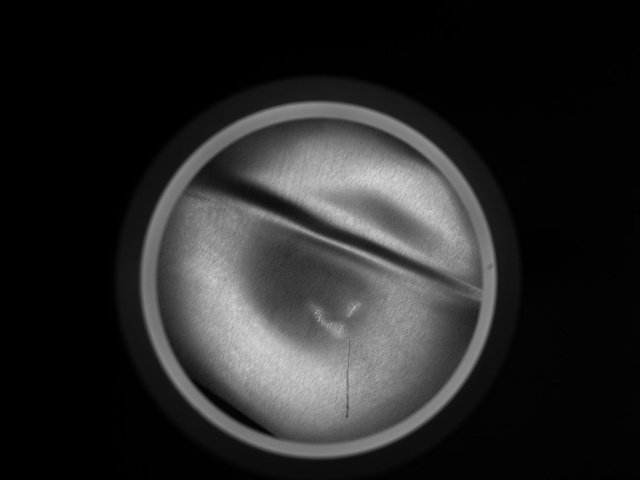ca_shang: (343, 334, 353, 424)
zhe_zhou: (190, 153, 443, 406)
